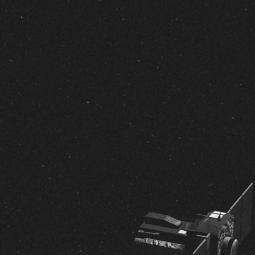soho: (133, 171, 254, 255)
